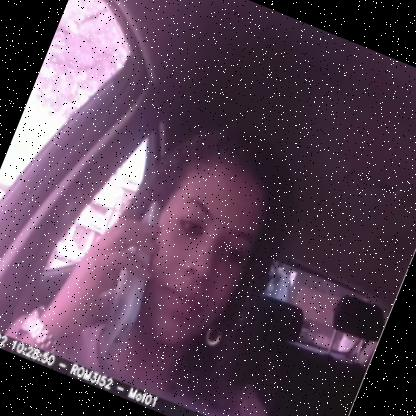phone: (76, 194, 188, 362)
